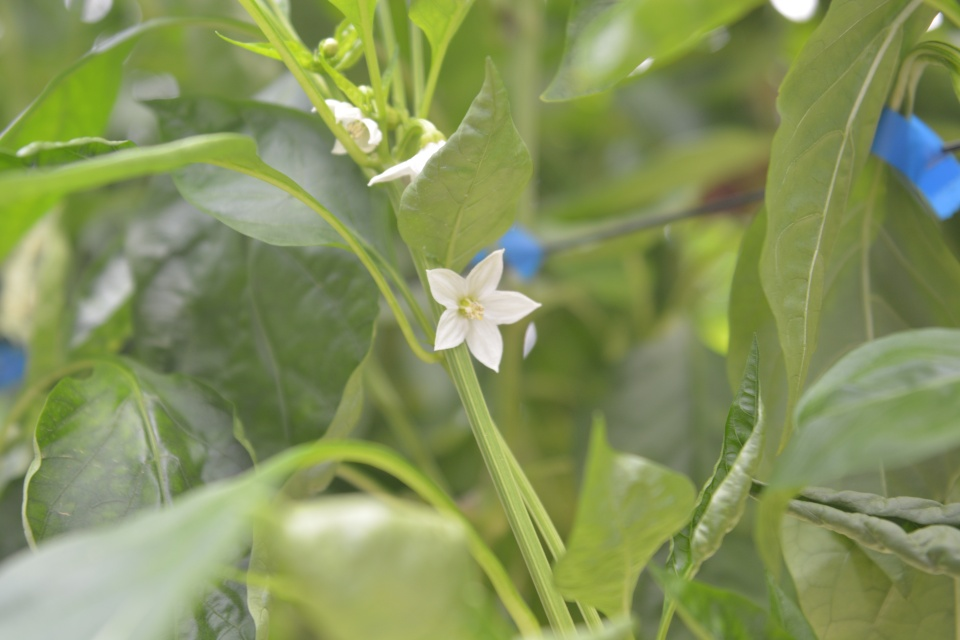flower: (425, 244, 543, 377), (309, 94, 382, 158), (364, 138, 451, 189)
